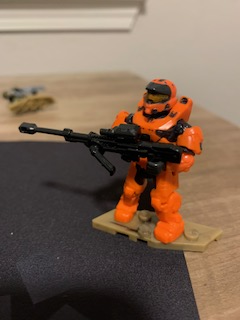spartan: (109, 78, 204, 243)
